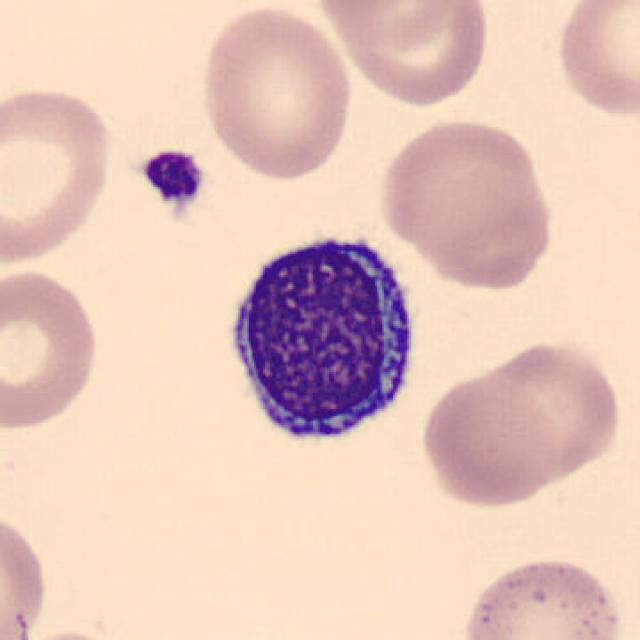Lymphocyte: (210, 221, 426, 458)
Platelets: (135, 144, 210, 213)
RBC: (196, 2, 356, 183), (457, 335, 626, 492), (375, 115, 548, 262), (0, 81, 119, 273), (416, 367, 565, 511), (414, 157, 560, 293), (316, 0, 494, 109), (0, 264, 103, 436), (458, 552, 628, 640), (551, 0, 638, 123), (311, 0, 480, 48), (0, 504, 52, 640)
